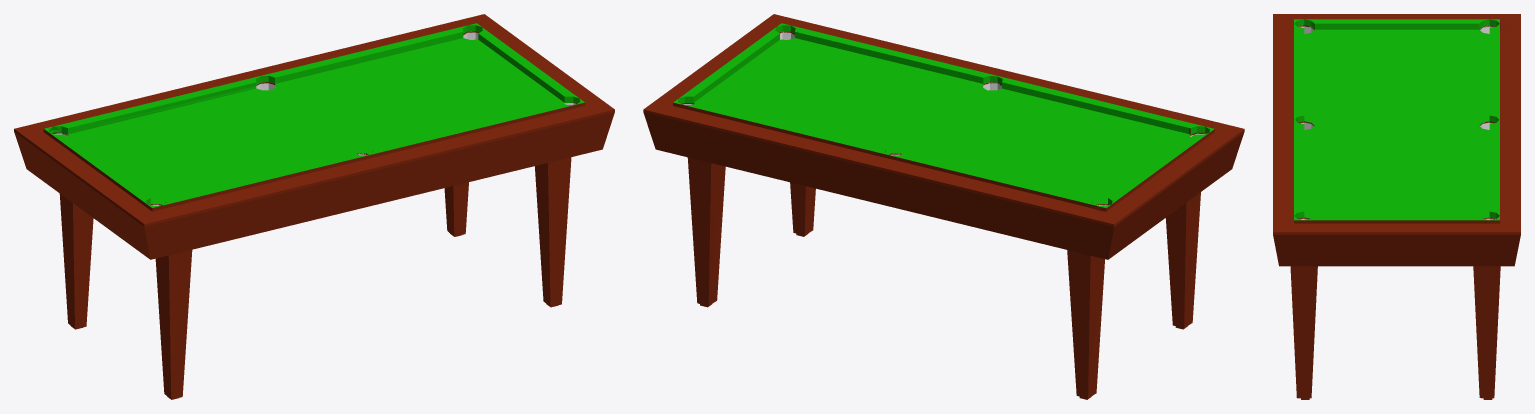
The model's file is pool-table.obj.
The picture shows the model from 3 angles, left to right: view 1: azimuth 30°, elevation 25°; view 2: azimuth 150°, elevation 25°; view 3: azimuth 270°, elevation 25°; orthographic projection. The views are drawn at different scales.
Parts seen in each view (by area): view 1: pooltable_Cube.013; view 2: pooltable_Cube.013; view 3: pooltable_Cube.013.
Boxes of the visible parts, x1,y1,x2,y2 form: pooltable_Cube.013: (14,14,614,399); pooltable_Cube.013: (643,14,1244,399); pooltable_Cube.013: (1273,14,1520,399).
Bounding box in the file's own units: 29.33 × 11.92 × 14.08.
